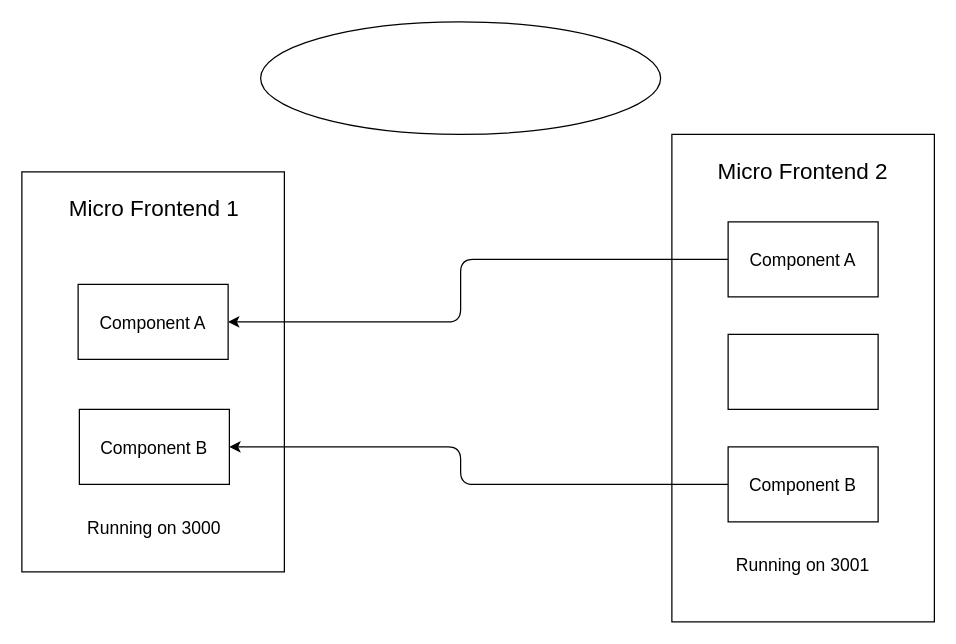
Image size: 956x644. Some labels were removed from this diagram. The shapes that lost their labels are listed below. From the top down, each one's centre as x and y in pixels, then its label:
At point (460, 77): "Module Federation Concept".
At point (802, 371): "Component X".
